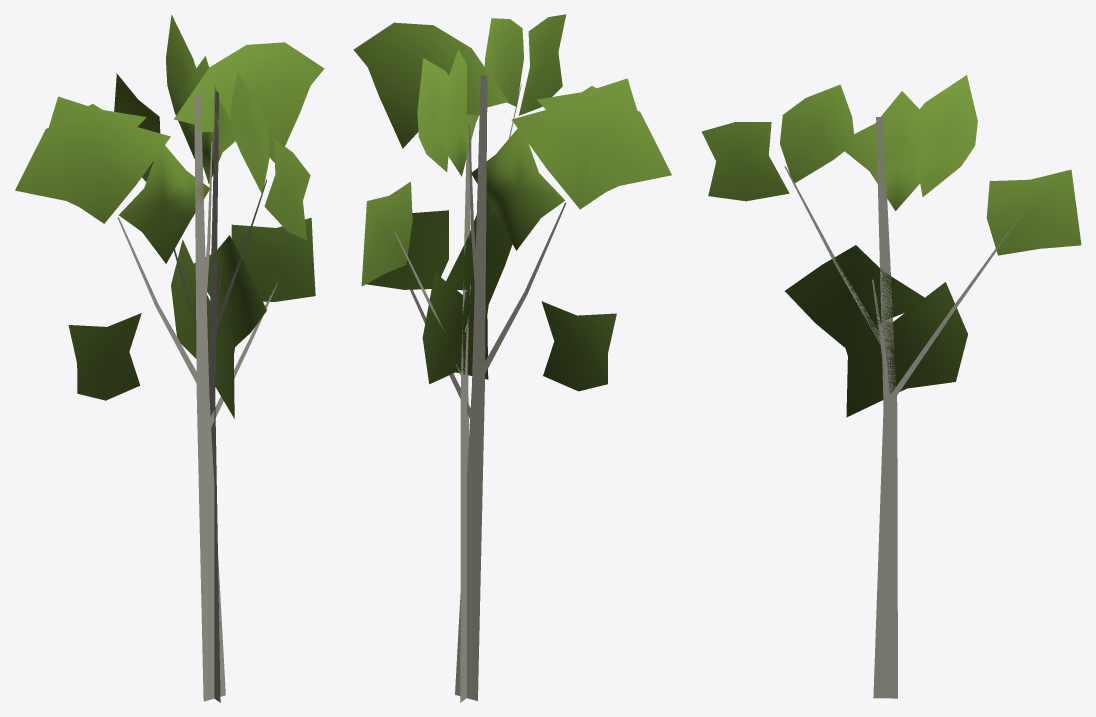
Rendered from birch-a.card.glb.
3 views of the same model, side by side, from view 1: azimuth 30°, elevation 25°; view 2: azimuth 150°, elevation 25°; view 3: azimuth 270°, elevation 25° (orthographic). The views are drawn at different scales.
Size of the model in its own units: 5 by 10.08 by 5.56.
